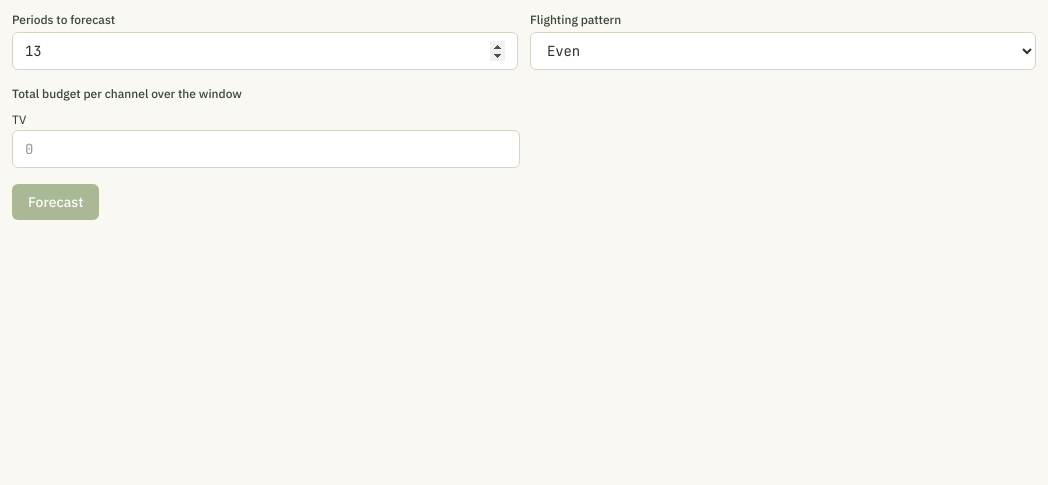
Test: ForecastPanel › states the interval when there is one
Type "100" into the number field named "TV forecast budget".
click(266, 149); type("100")  # box 12,130 -> 520,168
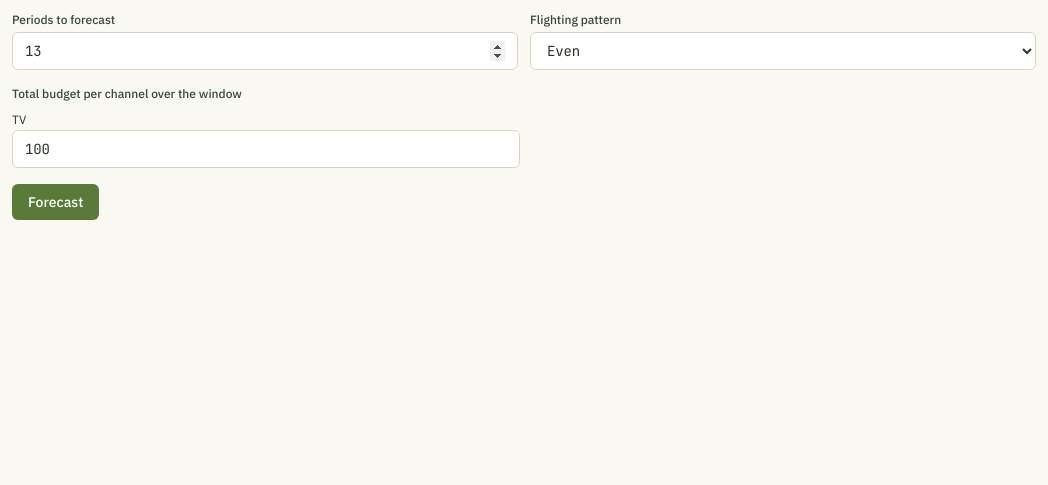
Click the button "Forecast".
click(56, 202)  # box 12,184 -> 99,220
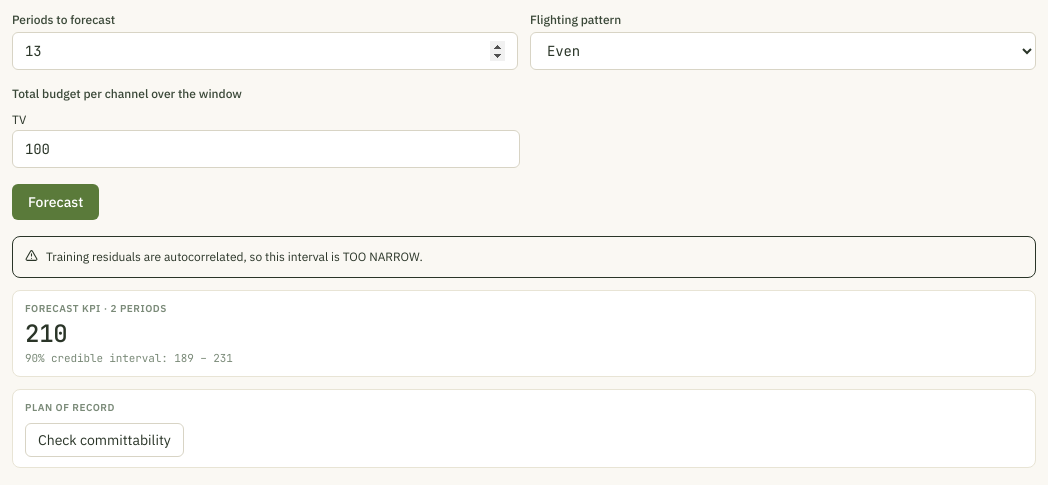
Check: the text "90% credible interval: 189 – 231" is shown, box 25,350 -> 233,364
